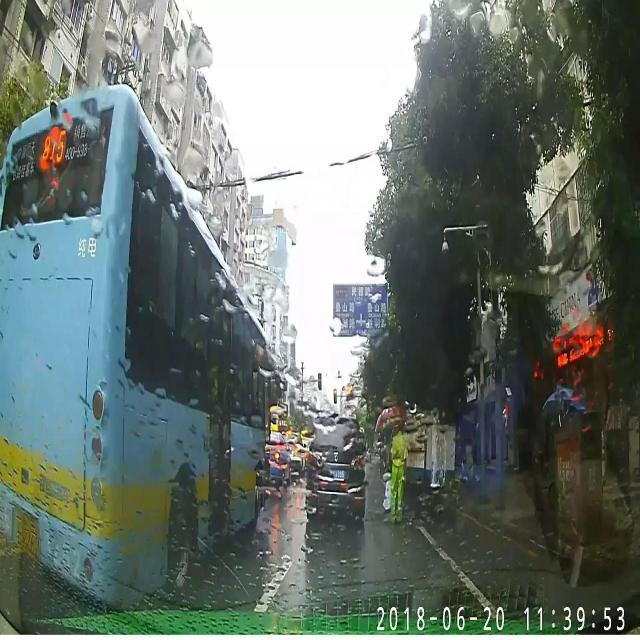car: (302, 412, 367, 523)
